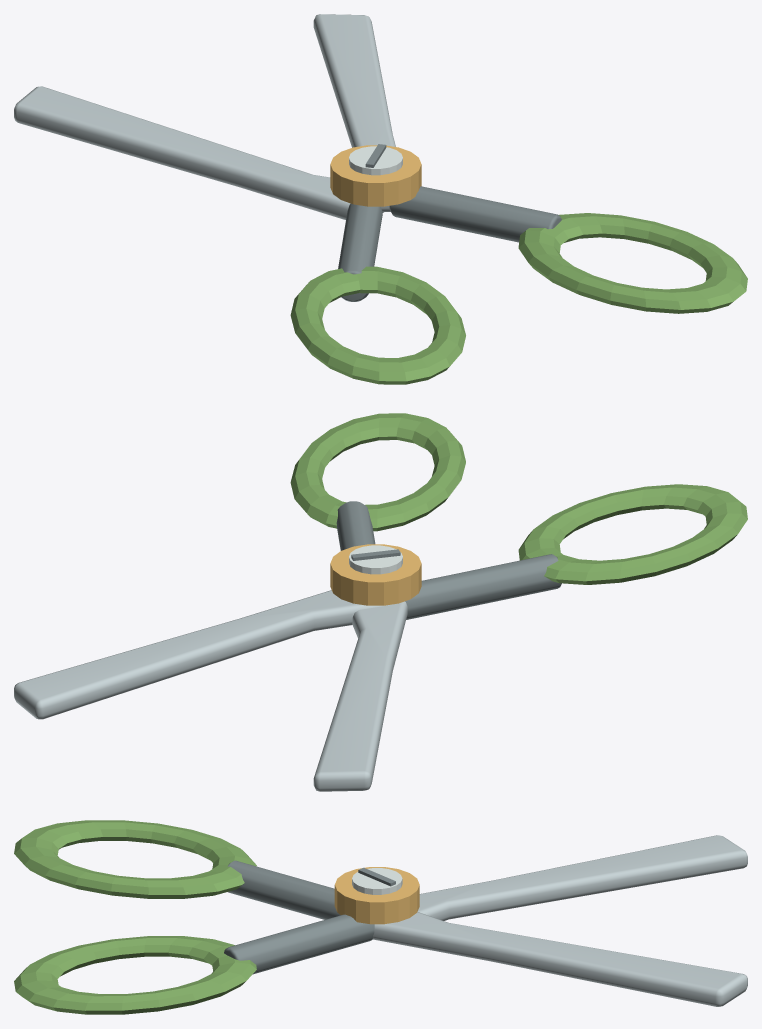
The model's file is GardenScissors.glb.
The picture shows the model from 3 angles, top to bottom: view 1: azimuth 30°, elevation 25°; view 2: azimuth 150°, elevation 25°; view 3: azimuth 270°, elevation 25°; orthographic projection. The views are drawn at different scales.
Visible parts, largest first — view 1: GardenScissors_Blade_L, GardenScissors_Handle_R, GardenScissors_Handle_L, GardenScissors_Blade_R, GardenScissors_Tang_R, GardenScissors_Pivot, GardenScissors_Tang_L, GardenScissors_Pivot_Cap; view 2: GardenScissors_Blade_R, GardenScissors_Handle_L, GardenScissors_Handle_R, GardenScissors_Blade_L, GardenScissors_Tang_L, GardenScissors_Pivot, GardenScissors_Tang_R, GardenScissors_Pivot_Cap; view 3: GardenScissors_Blade_R, GardenScissors_Blade_L, GardenScissors_Handle_R, GardenScissors_Handle_L, GardenScissors_Tang_R, GardenScissors_Tang_L, GardenScissors_Pivot, GardenScissors_Pivot_Cap.
Boxes of the visible parts, bbox=[...] form: GardenScissors_Blade_L: bbox=[14, 86, 383, 219]; GardenScissors_Handle_R: bbox=[518, 213, 747, 313]; GardenScissors_Handle_L: bbox=[290, 266, 465, 384]; GardenScissors_Blade_R: bbox=[313, 14, 395, 211]; GardenScissors_Tang_R: bbox=[389, 186, 561, 242]; GardenScissors_Pivot: bbox=[330, 145, 421, 206]; GardenScissors_Tang_L: bbox=[338, 203, 382, 301]; GardenScissors_Pivot_Cap: bbox=[349, 146, 402, 175]; GardenScissors_Blade_R: bbox=[14, 590, 392, 719]; GardenScissors_Handle_L: bbox=[518, 484, 747, 584]; GardenScissors_Handle_R: bbox=[290, 413, 465, 531]; GardenScissors_Blade_L: bbox=[313, 601, 407, 791]; GardenScissors_Tang_L: bbox=[405, 554, 561, 619]; GardenScissors_Pivot: bbox=[330, 544, 421, 605]; GardenScissors_Tang_R: bbox=[336, 501, 375, 550]; GardenScissors_Pivot_Cap: bbox=[349, 545, 402, 574]; GardenScissors_Blade_R: bbox=[372, 912, 747, 1006]; GardenScissors_Blade_L: bbox=[417, 835, 747, 920]; GardenScissors_Handle_R: bbox=[14, 936, 256, 1014]; GardenScissors_Handle_L: bbox=[14, 820, 256, 898]; GardenScissors_Tang_R: bbox=[224, 914, 374, 974]; GardenScissors_Tang_L: bbox=[227, 860, 340, 919]; GardenScissors_Pivot: bbox=[334, 867, 419, 924]; GardenScissors_Pivot_Cap: bbox=[352, 868, 402, 894].
Bounding box in the file's own units: 0.822 × 0.126 × 1.37.
